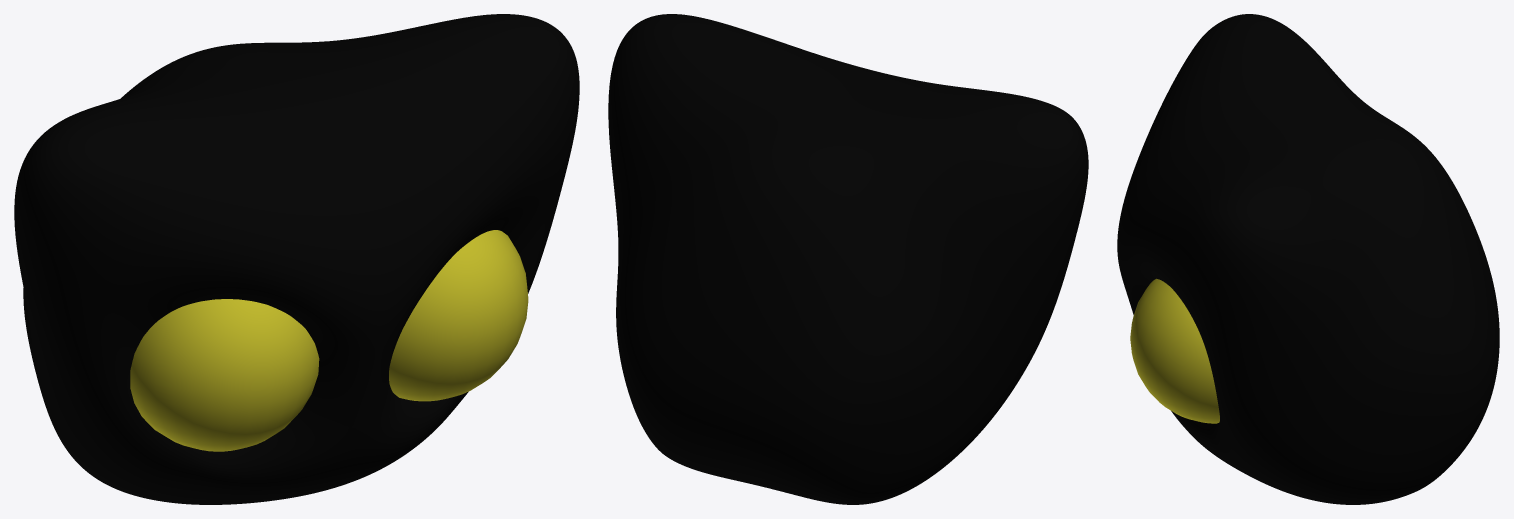
File: FirstEnemy.fbx
3 renders of one model, left to right at view 1: azimuth 30°, elevation 25°; view 2: azimuth 150°, elevation 25°; view 3: azimuth 270°, elevation 25°, orthographic. The views are drawn at different scales.
Parts seen in each view (by area): view 1: Cube, Sphere; view 2: Cube; view 3: Cube, Sphere.
Boxes of the visible parts, x1,y1,x2,y2 form: Cube: (14, 14, 579, 504); Sphere: (130, 230, 528, 451); Cube: (608, 14, 1088, 504); Cube: (1117, 14, 1499, 504); Sphere: (1130, 278, 1219, 423).
Bounding box in the file's own units: 237 × 186 × 176.
